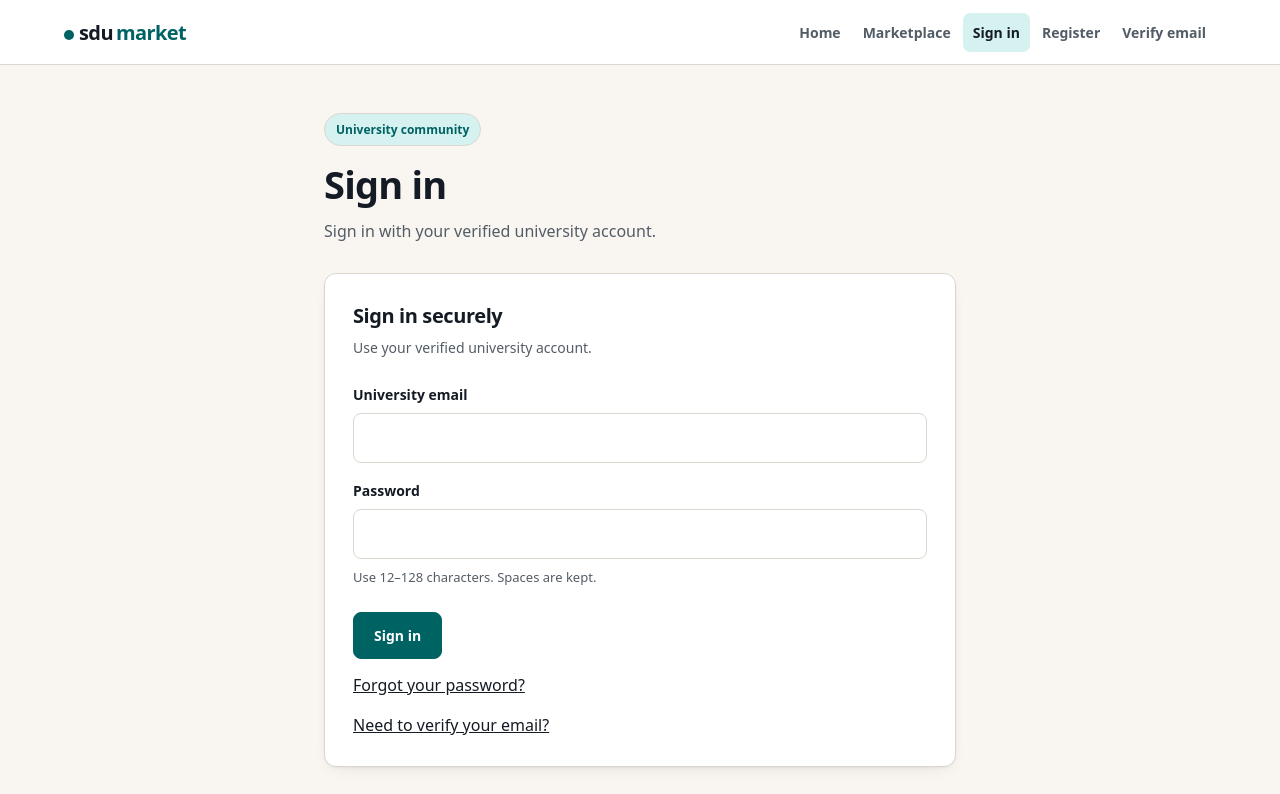
login accepts only server boolean capability and exposes admin navigation after confirmation
expect the heading "Sign in" is shown: met, box [324, 158, 446, 210]
Type "s@sdu.edu.kz" into the field labelled "University email". click: point(640, 438)
box: [353, 413, 927, 463]
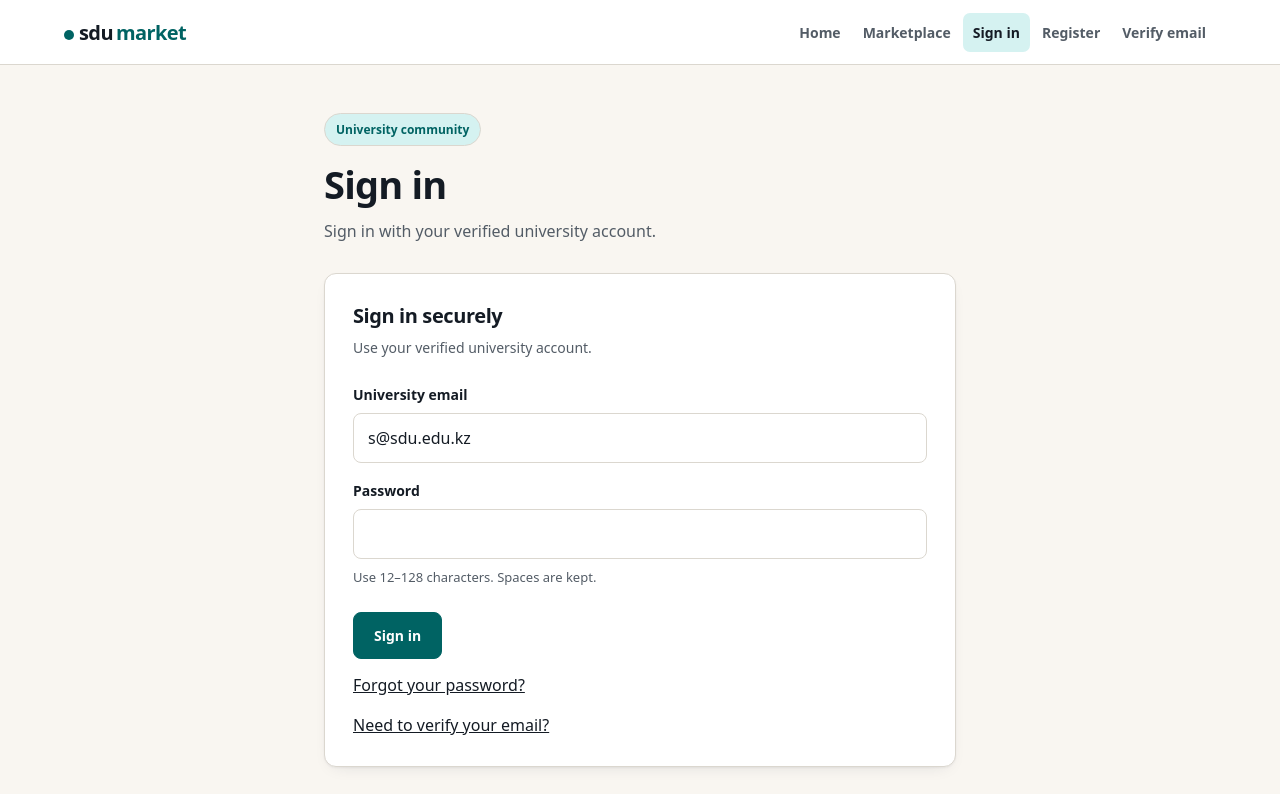
Type "PASSWORD_123456" into the password field labelled "Password". click: point(640, 534)
box: [353, 509, 927, 559]
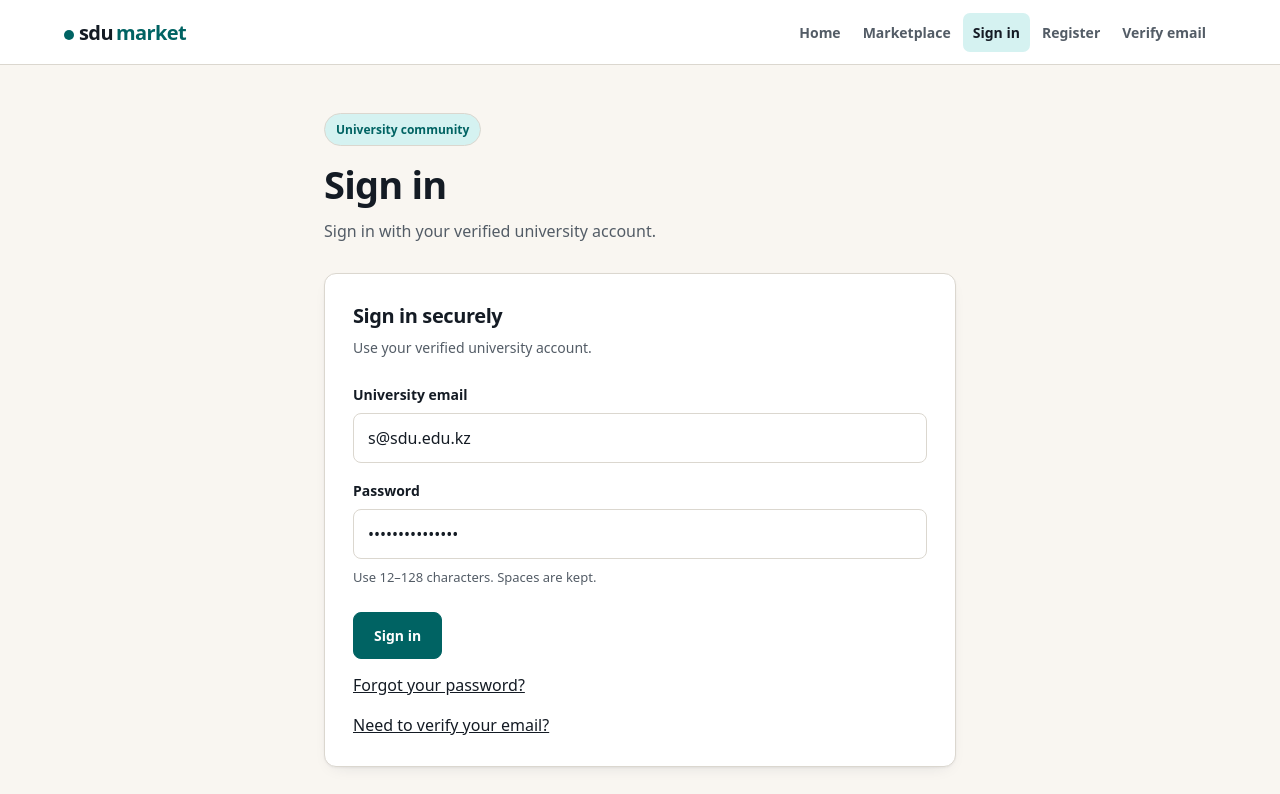
Submit the form "Sign in", box [324, 273, 956, 767]
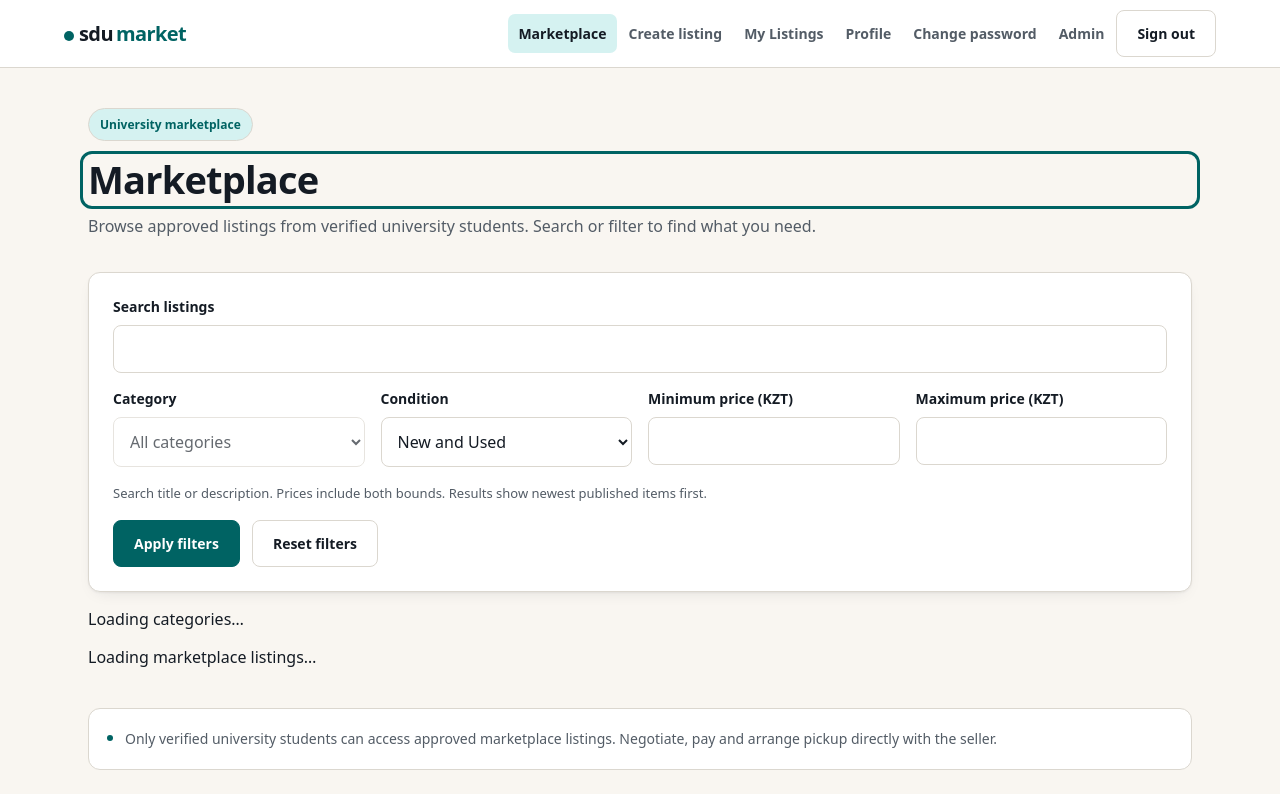
expect the link "Admin" is shown: met
Click the link "Admin". click: point(1082, 34)
box: [1059, 24, 1104, 43]
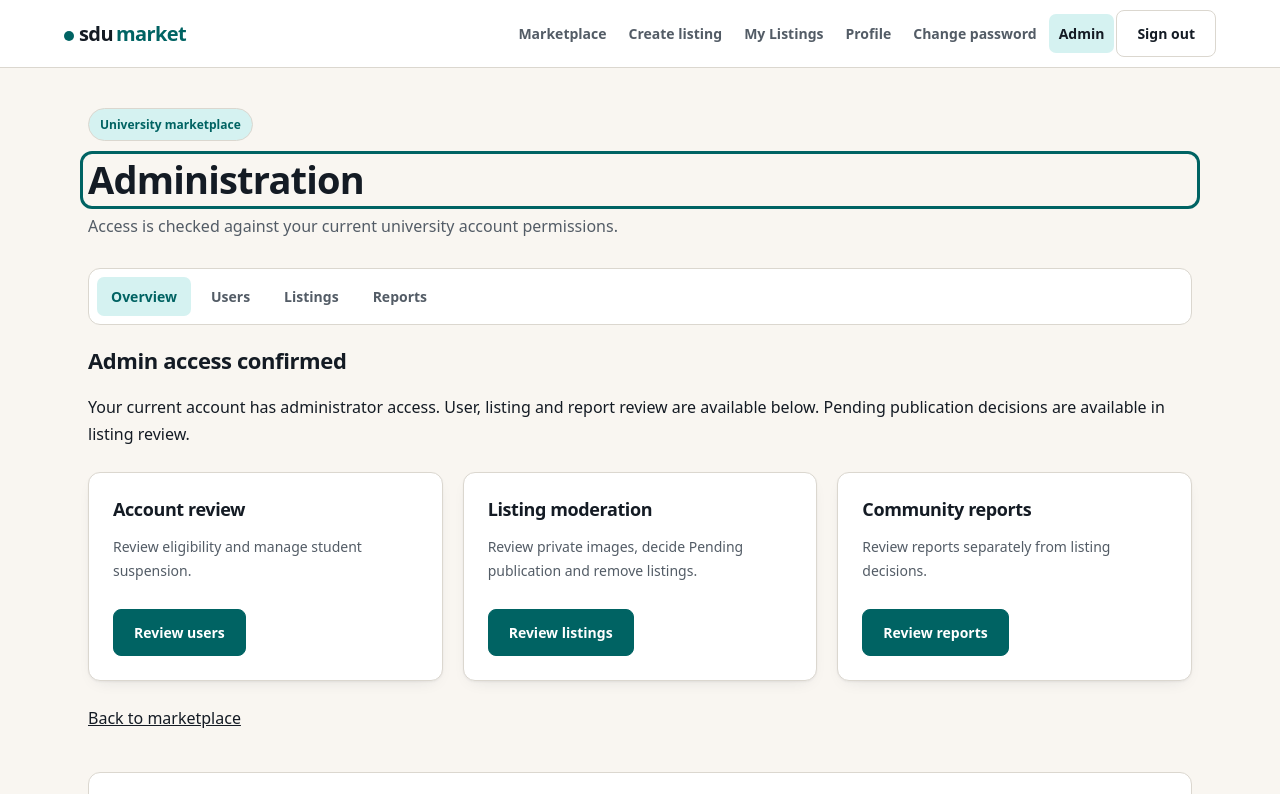
expect the heading "Admin access confirmed" is shown: met, box [88, 345, 346, 375]
